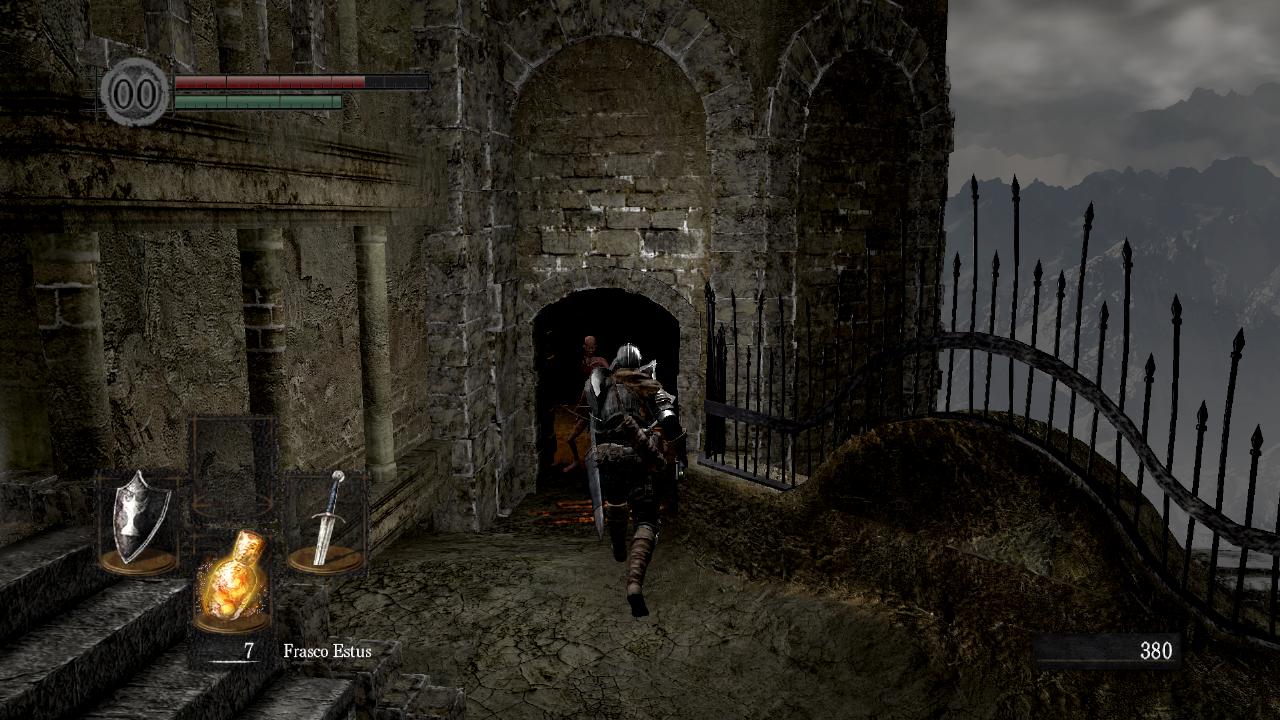hollow: (559, 336, 611, 473)
player: (583, 342, 689, 618)
